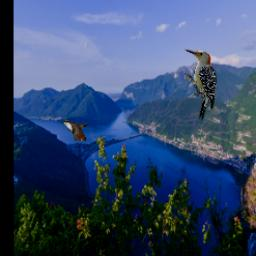Cuckoo: (62, 120, 87, 142)
Woodpecker: (183, 47, 216, 121)
